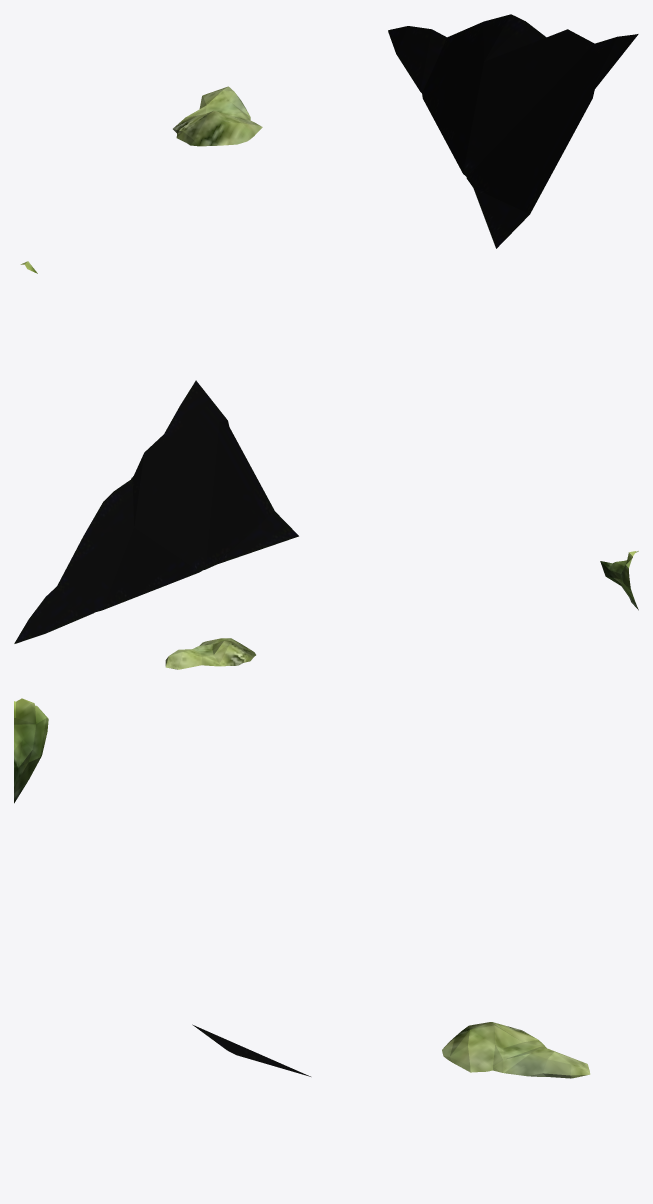
3 renders of one model, top to bottom at view 1: azimuth 30°, elevation 25°; view 2: azimuth 150°, elevation 25°; view 3: azimuth 270°, elevation 25°, orthographic. The views are drawn at different scales.
Bounding box in the file's own units: 26.11 × 7.37 × 18.58.
1 material, 1 textured.
